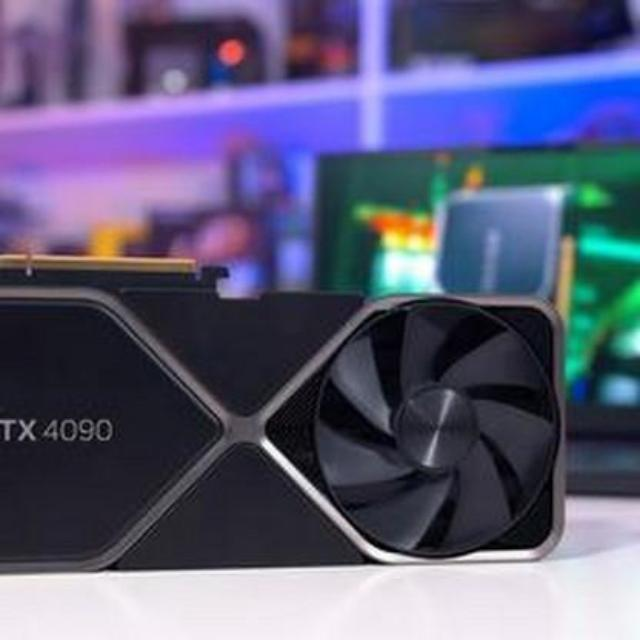GPU: (0, 242, 572, 574)
